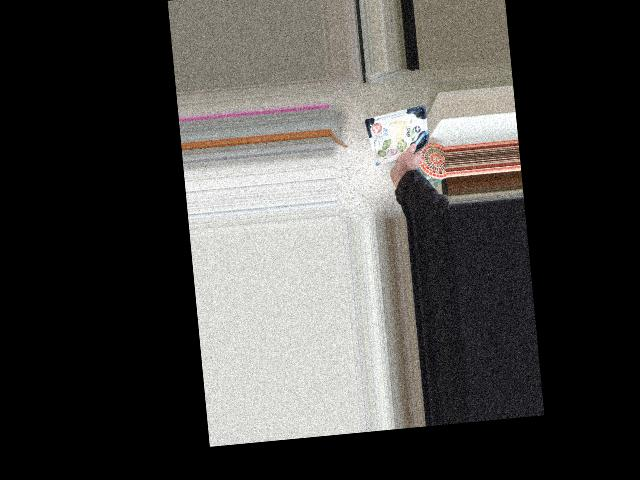cheese: (367, 122, 420, 175)
